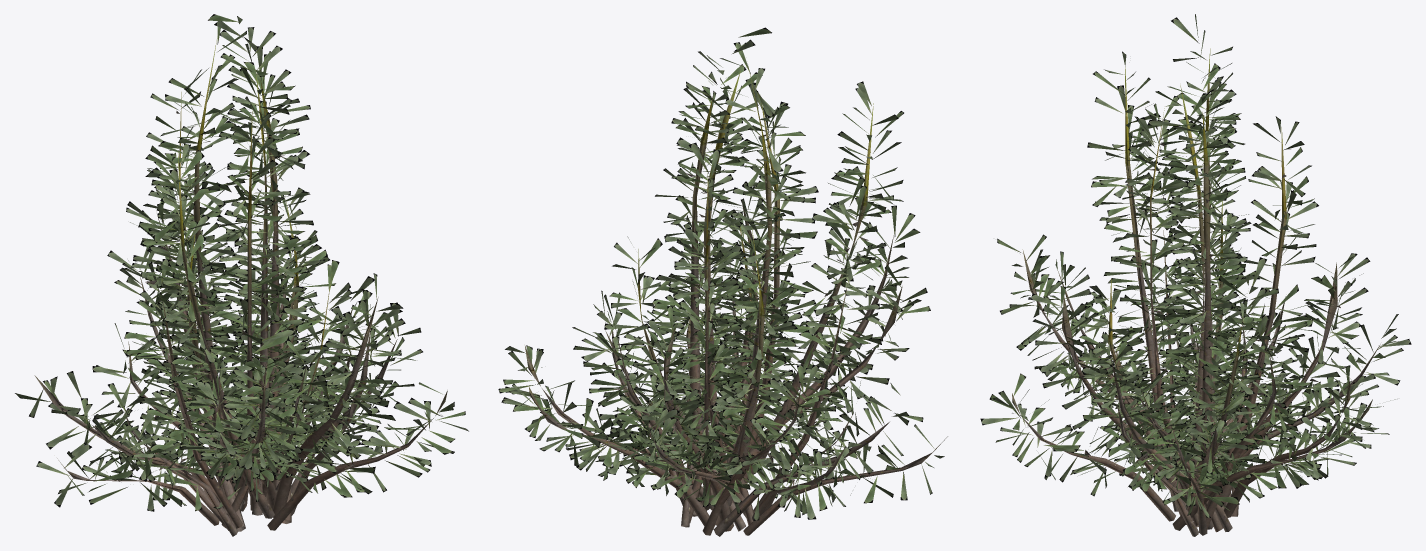
Rendered from shrub1.glb.
3 renders of one model, left to right at view 1: azimuth 30°, elevation 25°; view 2: azimuth 150°, elevation 25°; view 3: azimuth 270°, elevation 25°, orthographic. The views are drawn at different scales.
Visible parts, largest first — view 1: othonna_cerarioides_b; view 2: othonna_cerarioides_b; view 3: othonna_cerarioides_b.
Boxes of the visible parts, box(x1,y1,x2,y2) form: othonna_cerarioides_b: box(15, 14, 468, 536); othonna_cerarioides_b: box(498, 27, 947, 536); othonna_cerarioides_b: box(980, 14, 1411, 536).
Bounding box in the file's own units: 1.03 × 1.38 × 1.1.
Materials: 2 (2 with a texture image).
